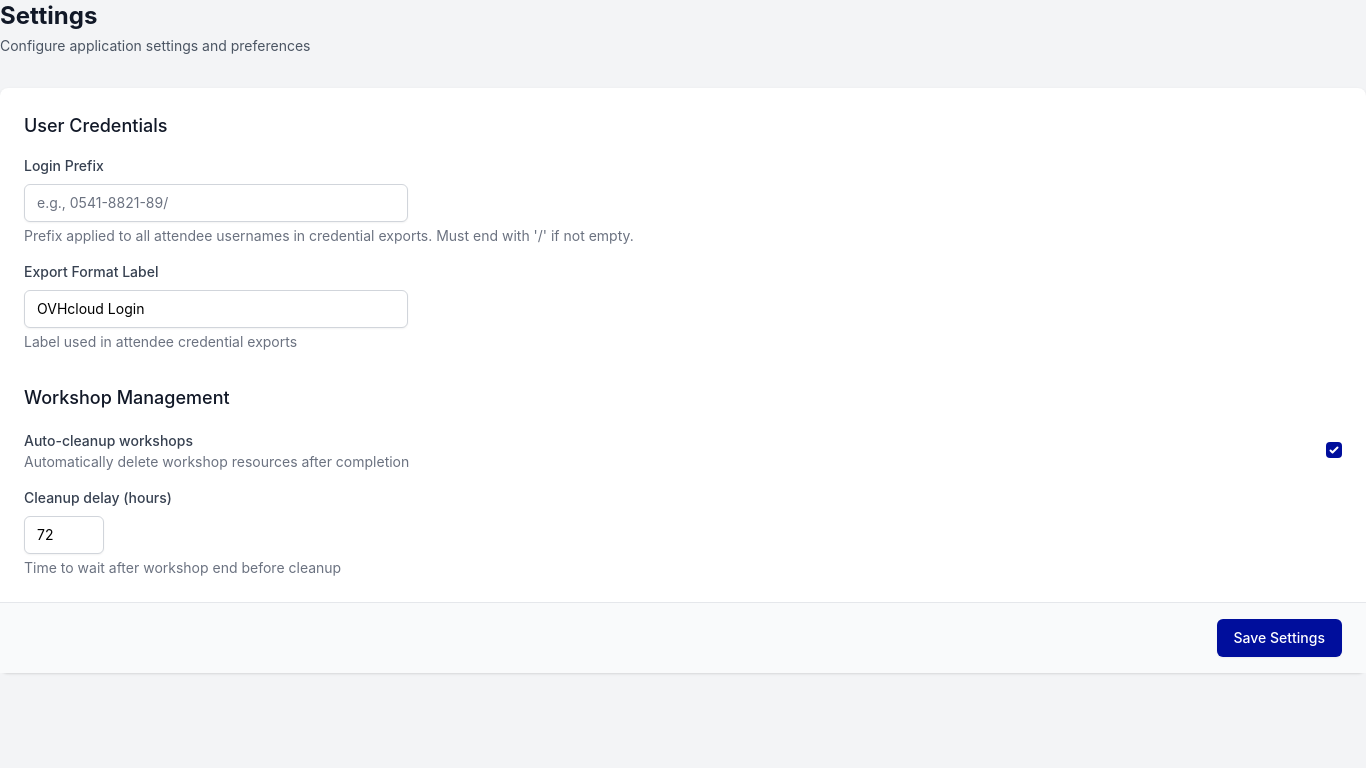
Test case: Settings - NotificationDialog Integration › should close notification dialog when clicking outside modal
Click the button "Save Settings" at (1279, 638), box 1217,619 -> 1342,657
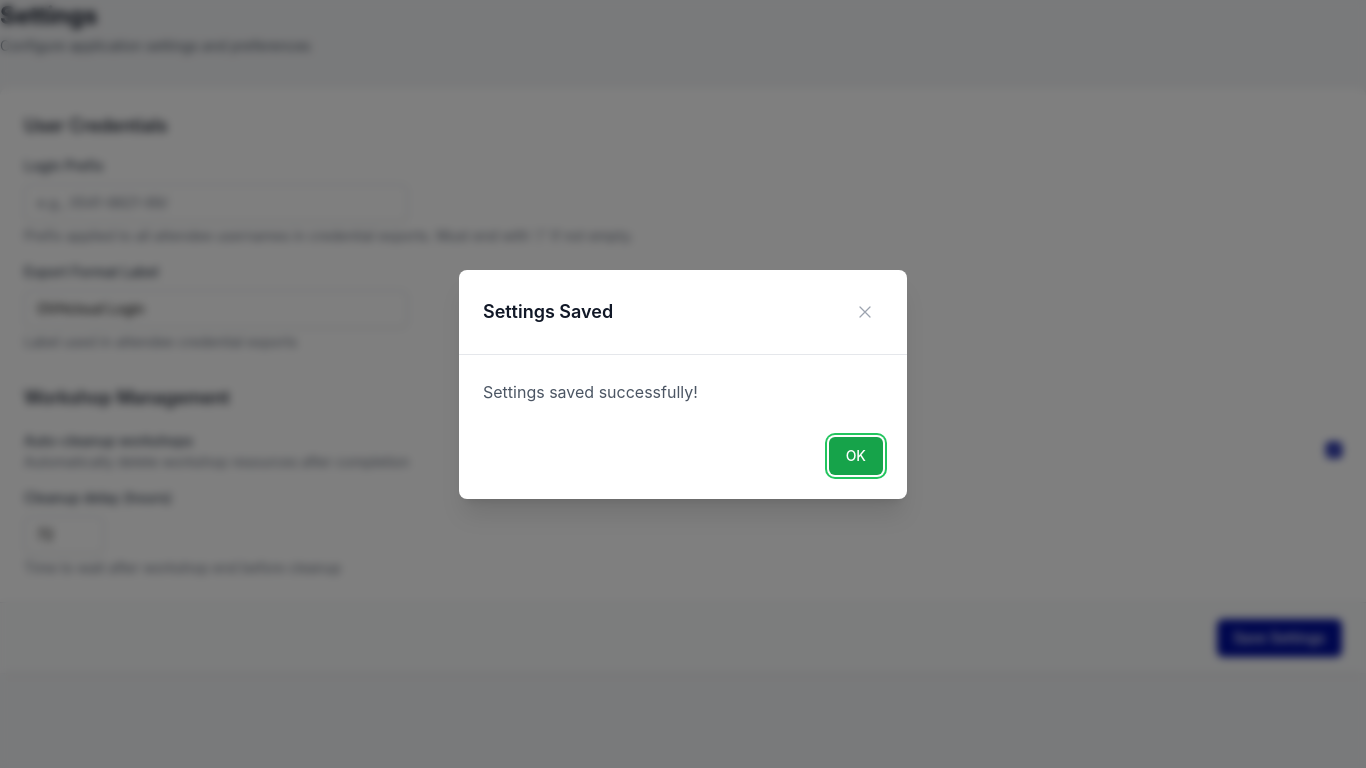
Expected: the heading "Settings Saved" is shown, 483,298 -> 613,326
Note: Click on overlay to close dialog
Click the element with test id "modal-overlay" at (683, 384), box 0,0 -> 1365,767
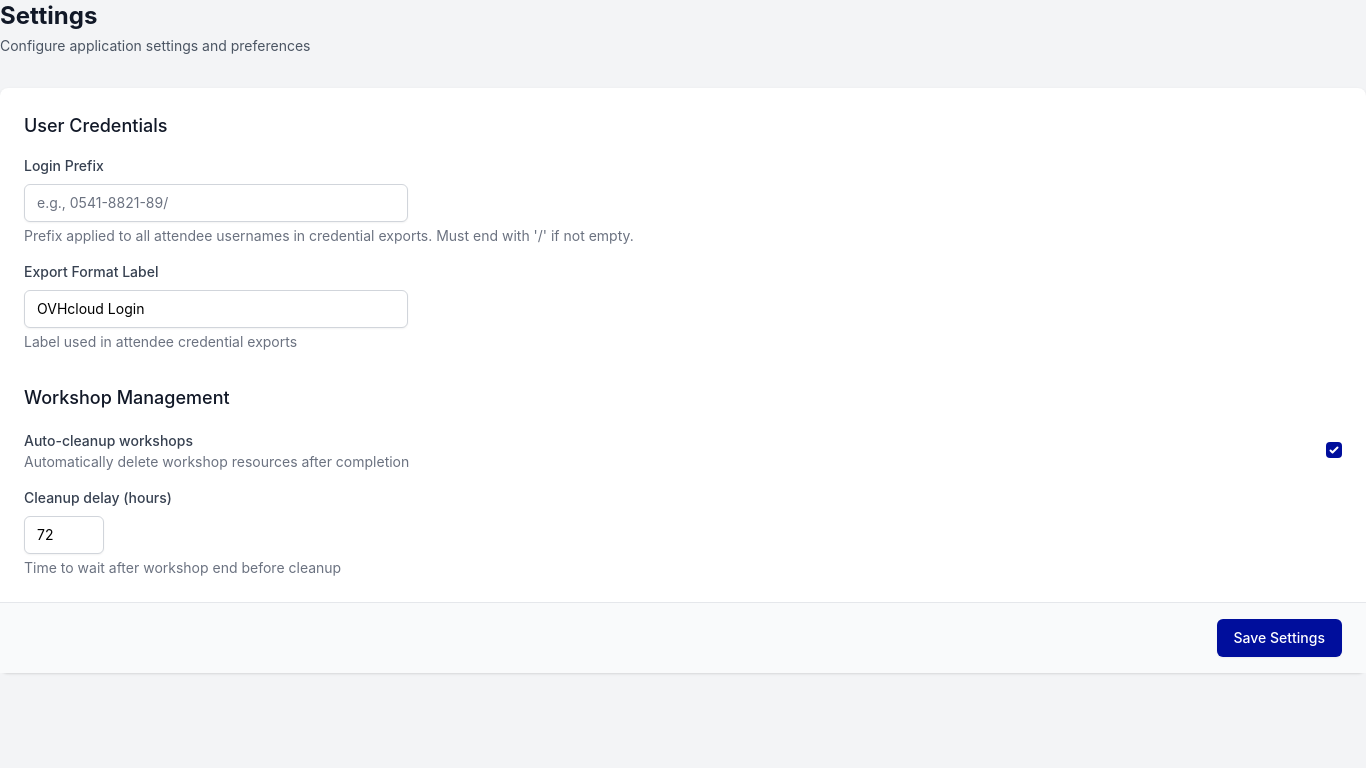
Expected: the heading "Settings Saved" is gone
Expected: the element with test id "modal-overlay" is gone
